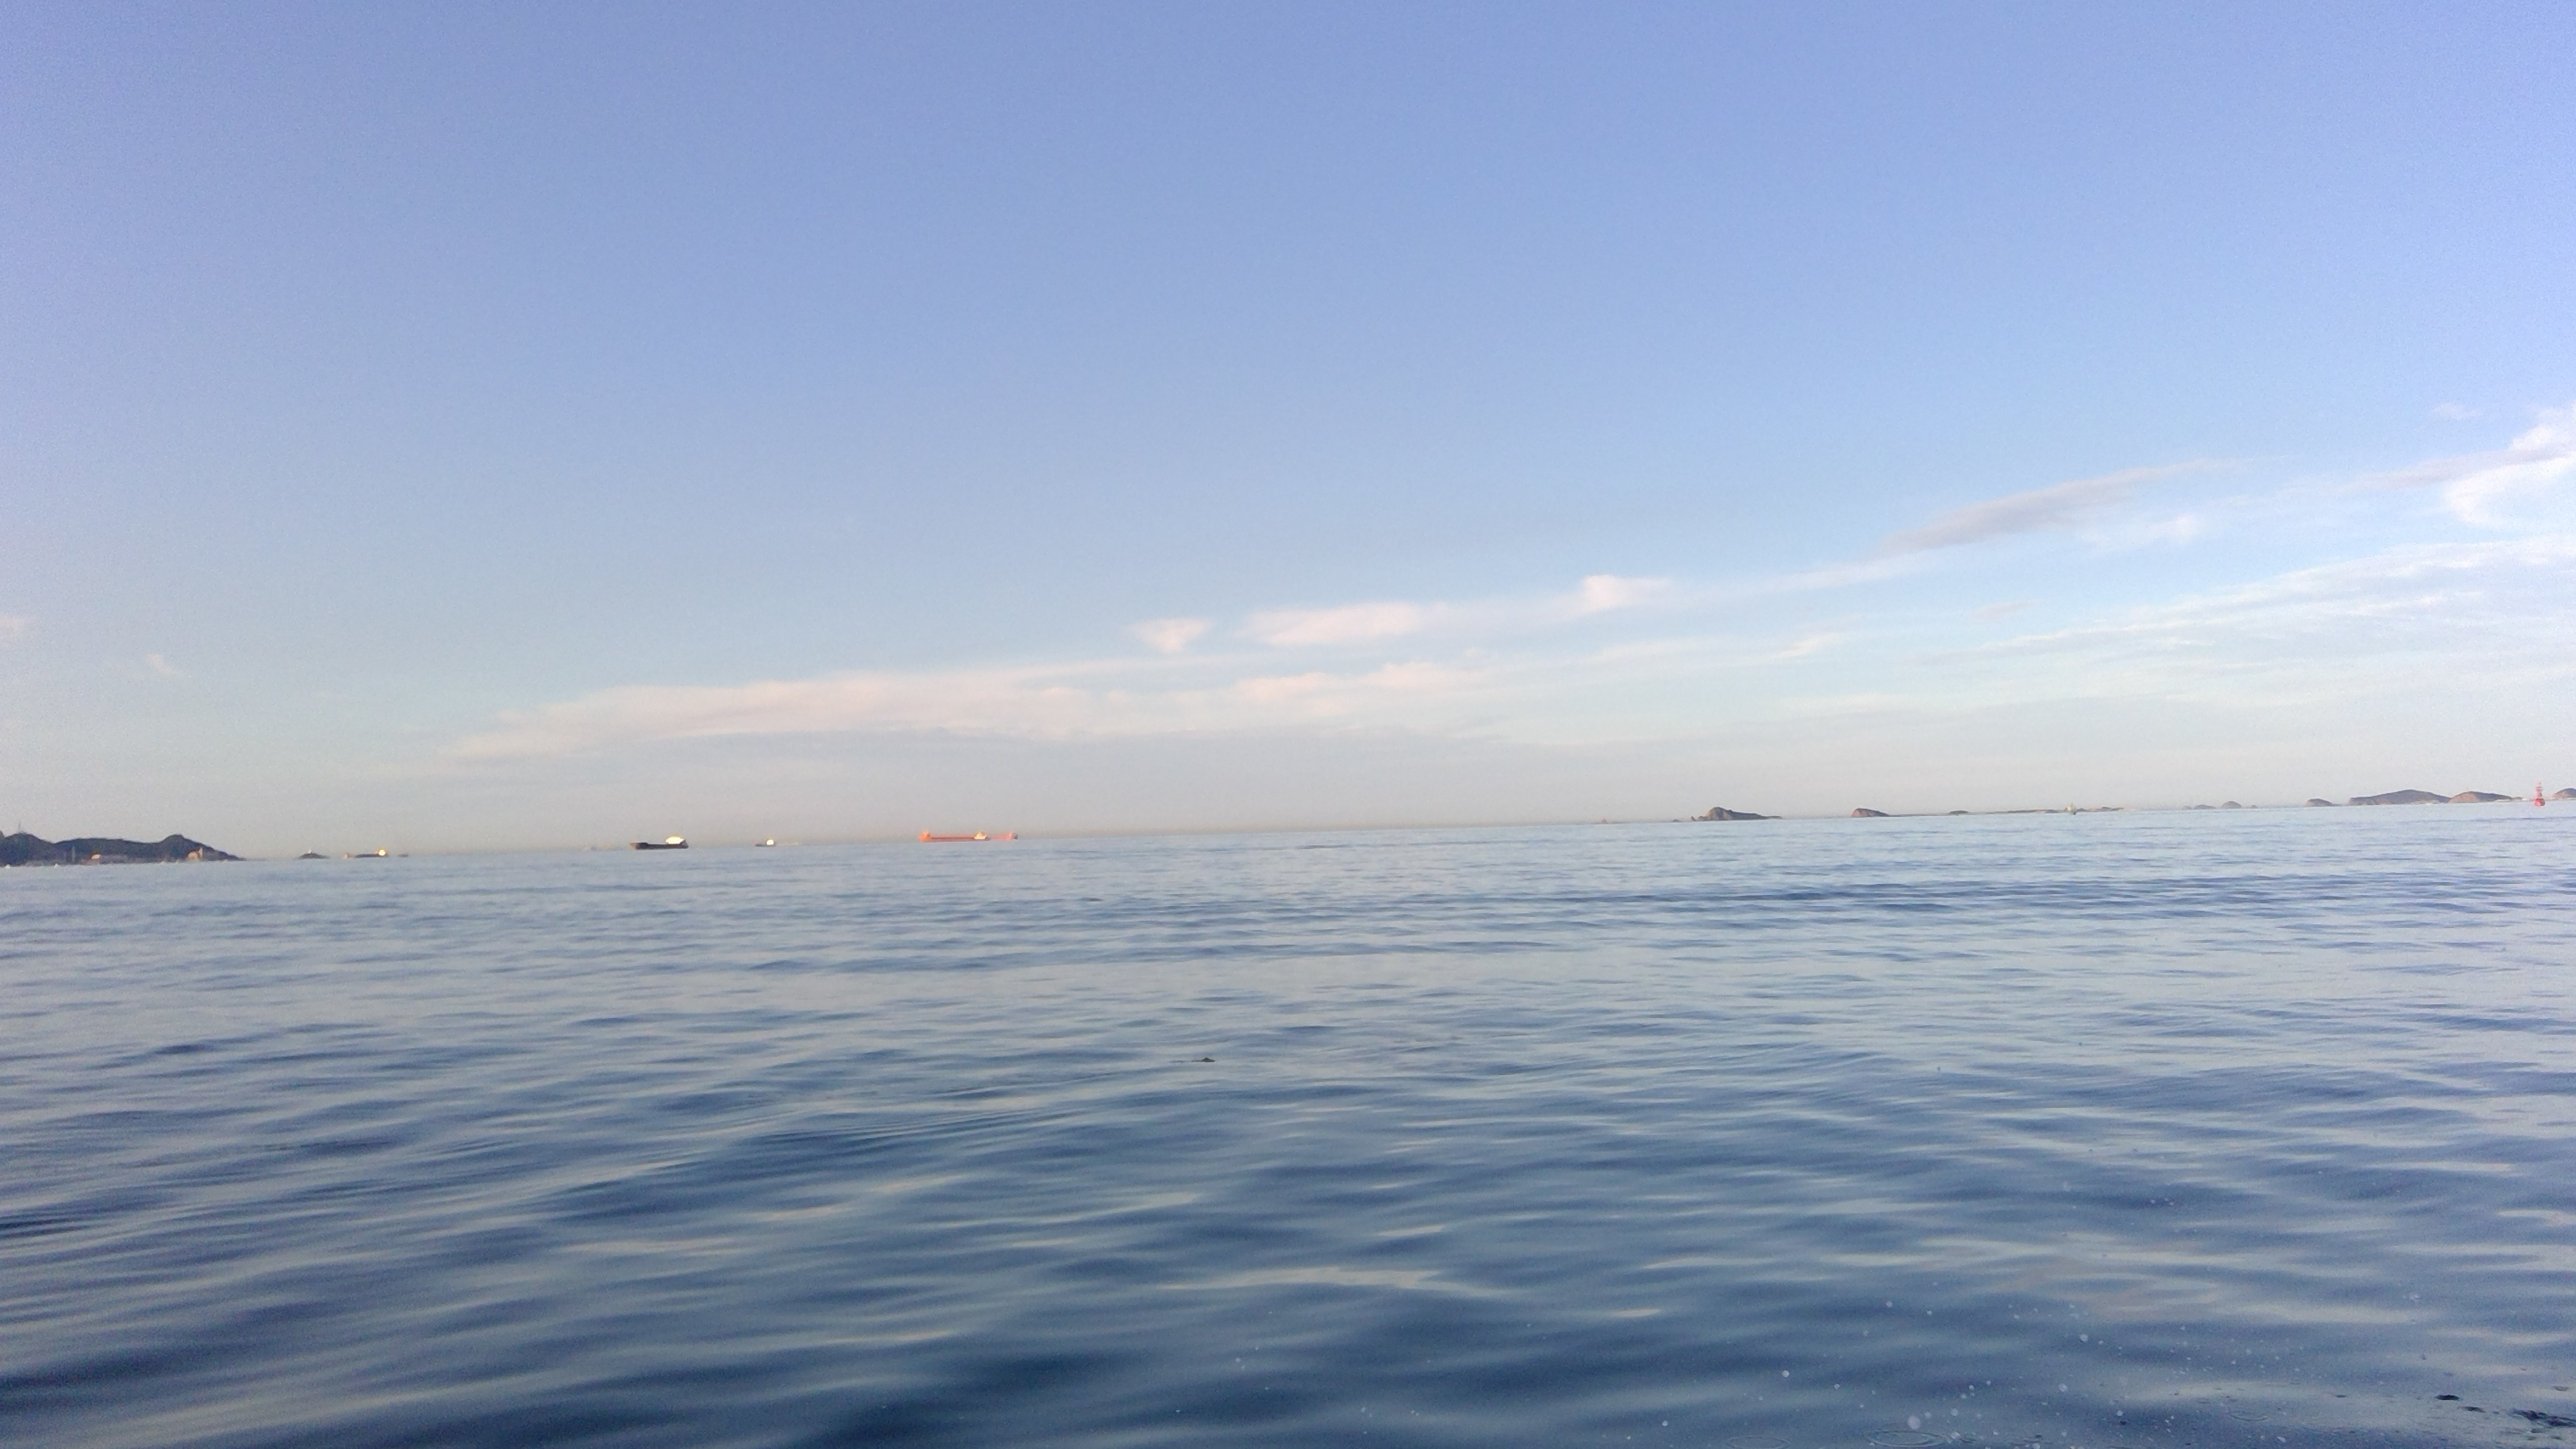buoy: (2523, 768, 2548, 826)
platform: (920, 817, 1023, 856)
rock: (0, 805, 239, 870), (2342, 780, 2576, 816), (1686, 789, 1778, 856), (1849, 803, 1888, 832)
ship: (619, 817, 702, 856)
